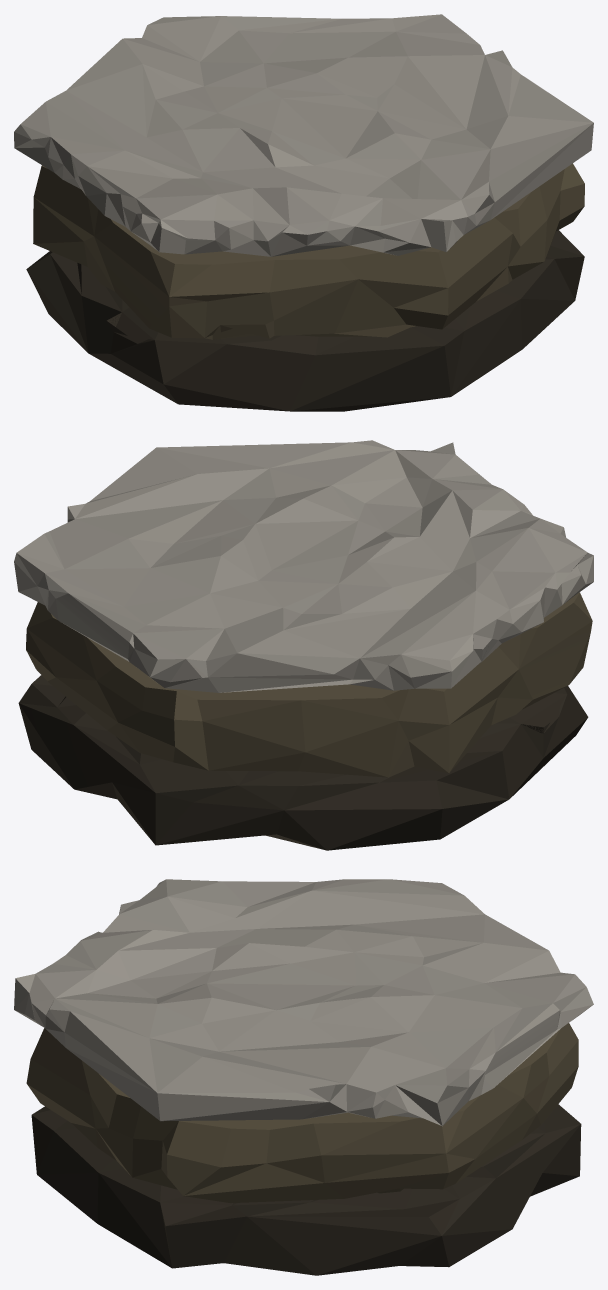
File: stone.fbx
3 views of the same model, one above another, from view 1: azimuth 30°, elevation 25°; view 2: azimuth 150°, elevation 25°; view 3: azimuth 270°, elevation 25° (orthographic).
Visible parts, largest first — view 1: stone; view 2: stone; view 3: stone.
Boxes of the visible parts, x1,y1,x2,y2 form: stone: (14,14,593,411); stone: (14,440,593,850); stone: (14,879,593,1275).
Bounding box in the file's own units: 982 × 444 × 1125.
